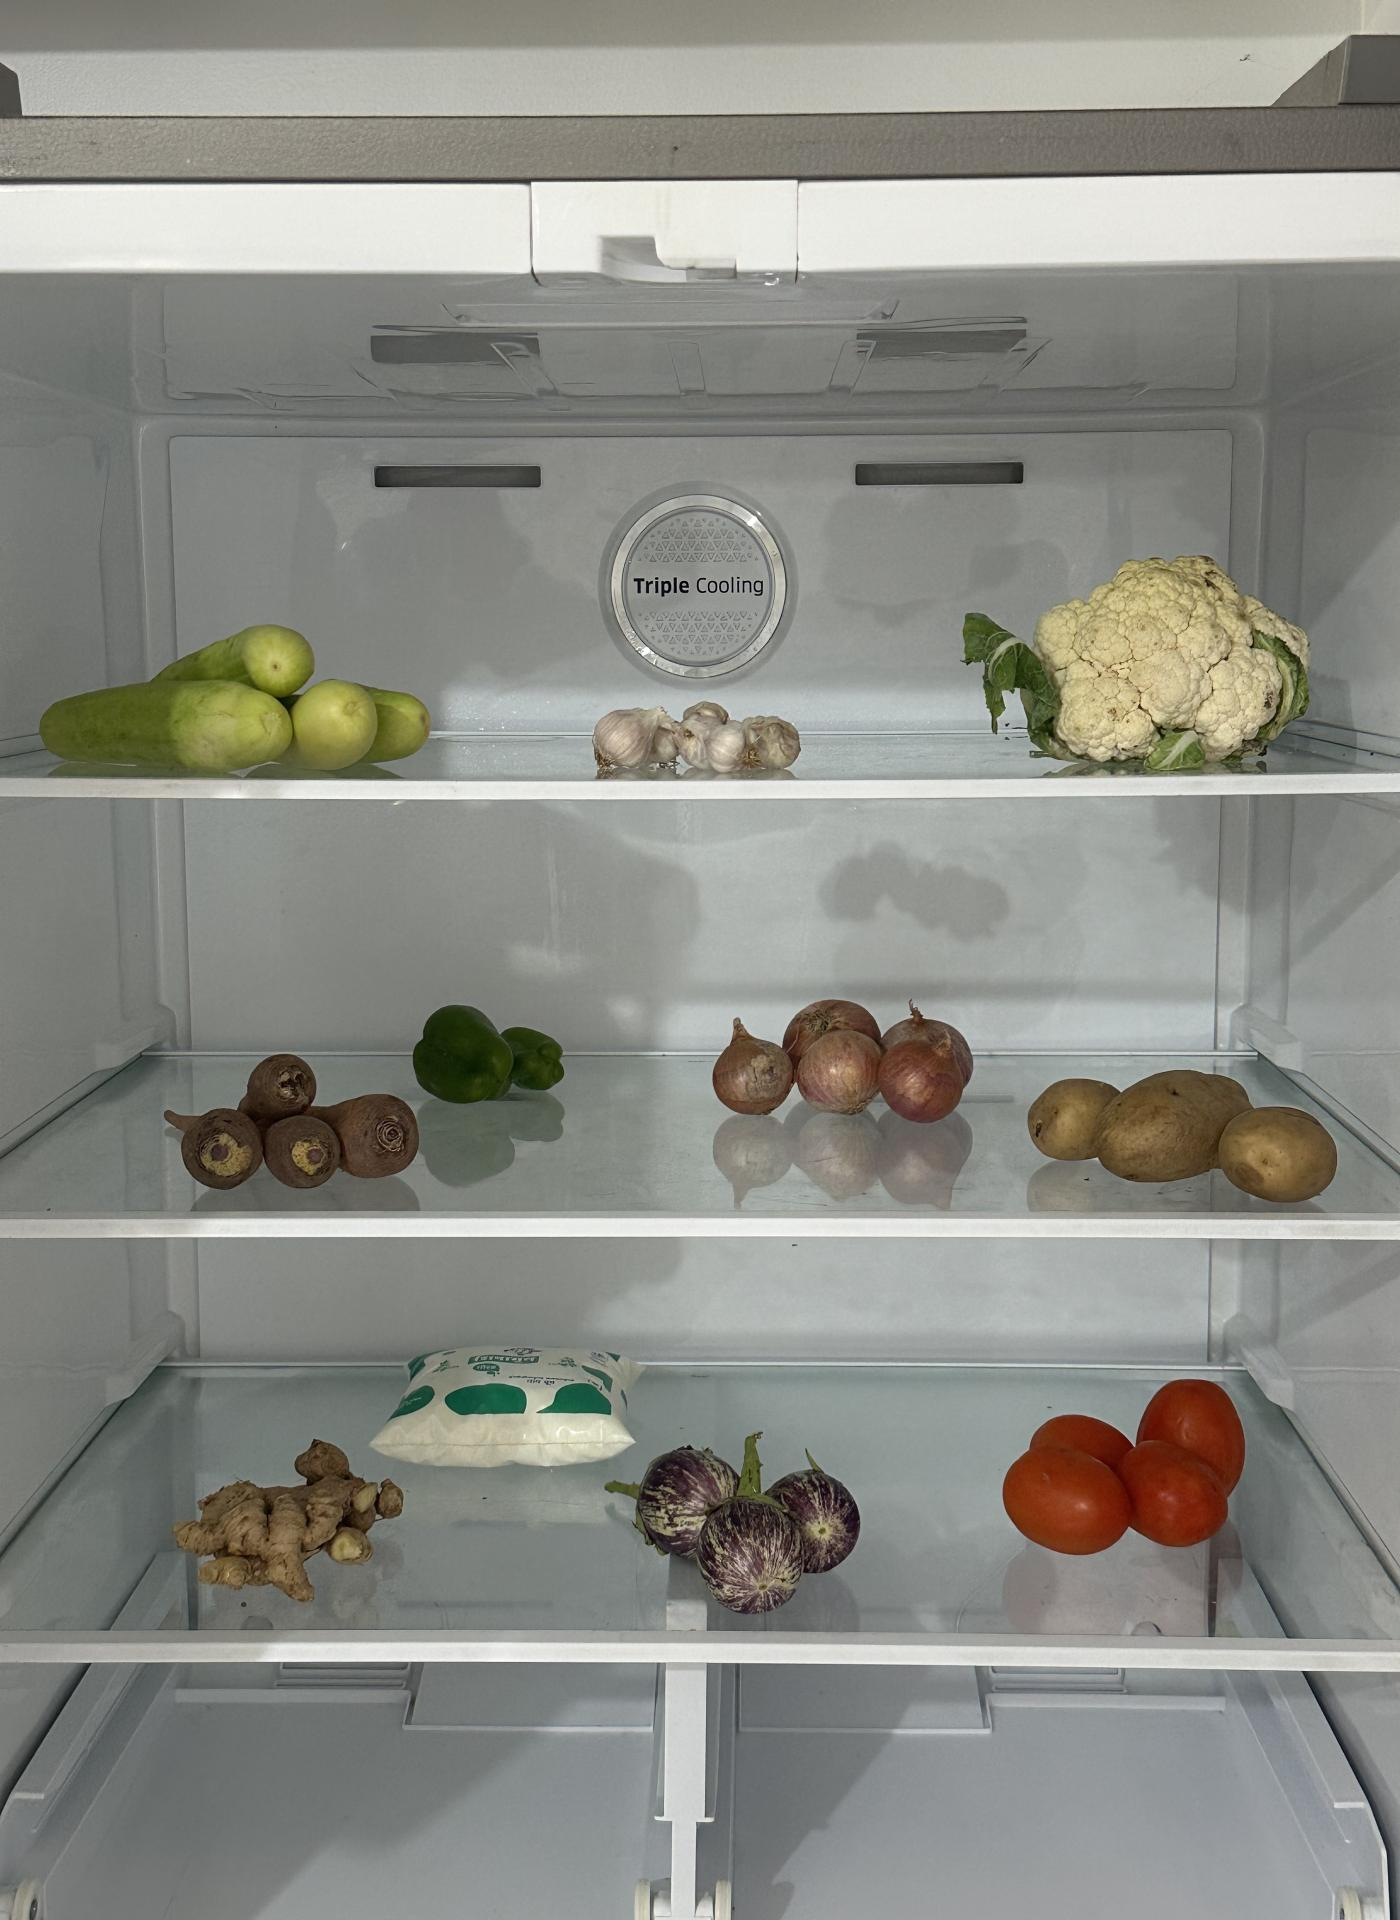capsicum: (409, 997, 570, 1106)
carrots: (163, 1043, 419, 1191)
cauliflower: (1030, 546, 1309, 763)
cucumber: (34, 619, 429, 780)
garlic: (580, 692, 805, 775)
ginger: (180, 1433, 403, 1595)
milk: (371, 1333, 647, 1467)
onion: (704, 988, 977, 1127)
potato: (1030, 1067, 1333, 1197)
tomato: (1006, 1376, 1246, 1553)
